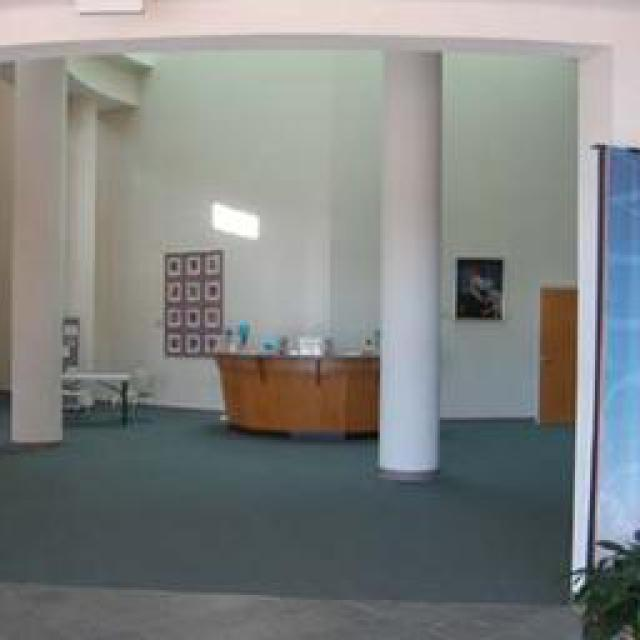column occluded: (372, 48, 440, 472), (8, 55, 62, 442)
desk calendar: (210, 342, 378, 435)
door opening: (538, 285, 575, 422)
floor -X: (0, 388, 635, 635)
picture crop: (452, 255, 500, 318)
sign: (208, 198, 255, 238)
table runner: (58, 365, 125, 420)
wall clock: (88, 48, 572, 420), (0, 50, 148, 395)
